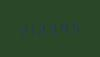five: (73, 18, 83, 34)
four: (62, 19, 72, 35)
one: (28, 21, 38, 37)
three: (51, 19, 61, 36)
two: (17, 22, 27, 38), (40, 20, 50, 36)
